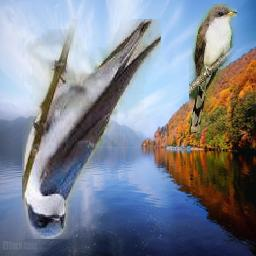Cuckoo: (189, 5, 237, 134)
Swallow: (23, 19, 162, 239)
